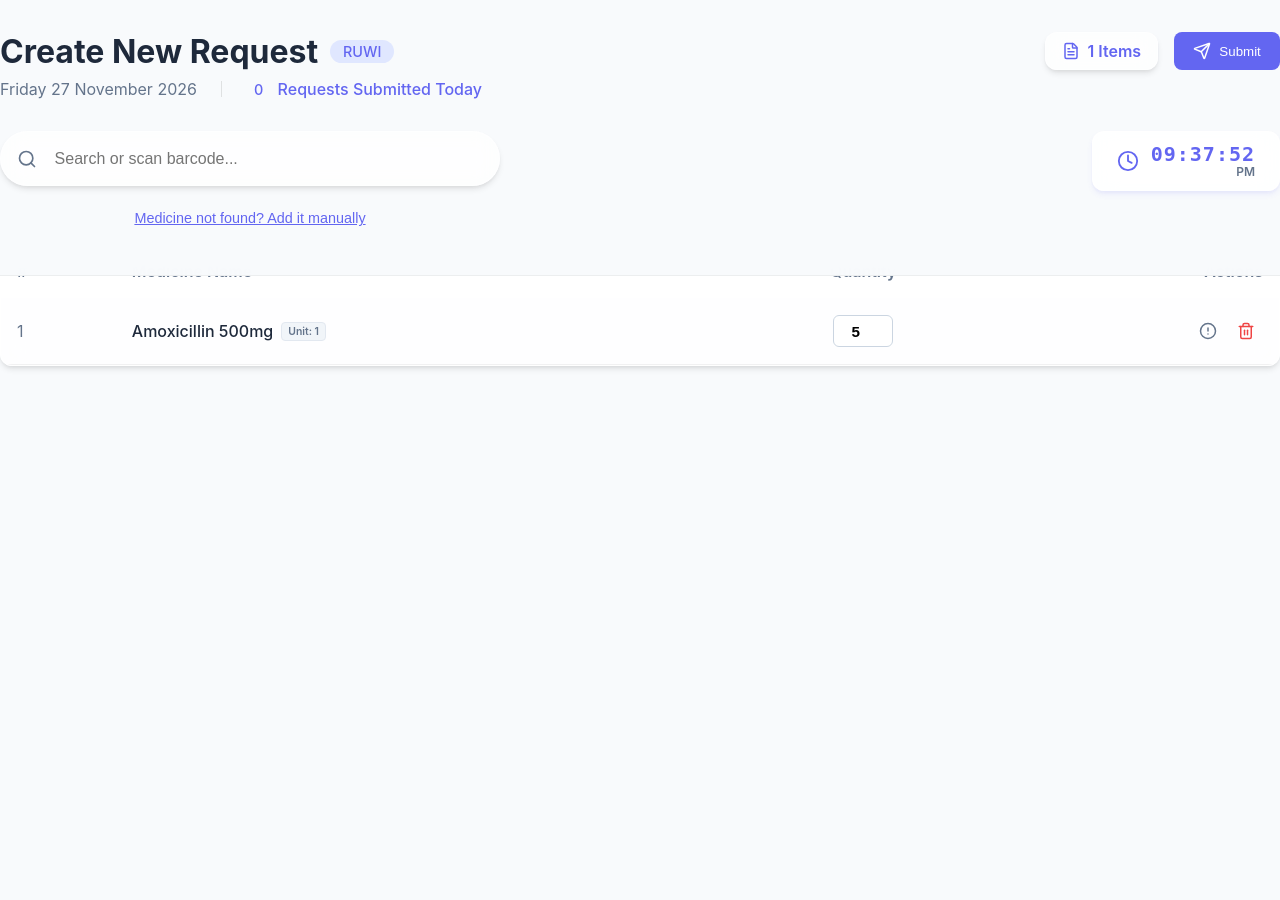
PharmacistNewRequest verification token flow › preserves draft cart and reopens PIN modal with error message when verification token is rejected (409/401)
The width and height of the screenshot is (1280, 900).
Click the button "Submit" at (1227, 51), box [1174,32,1279,70]
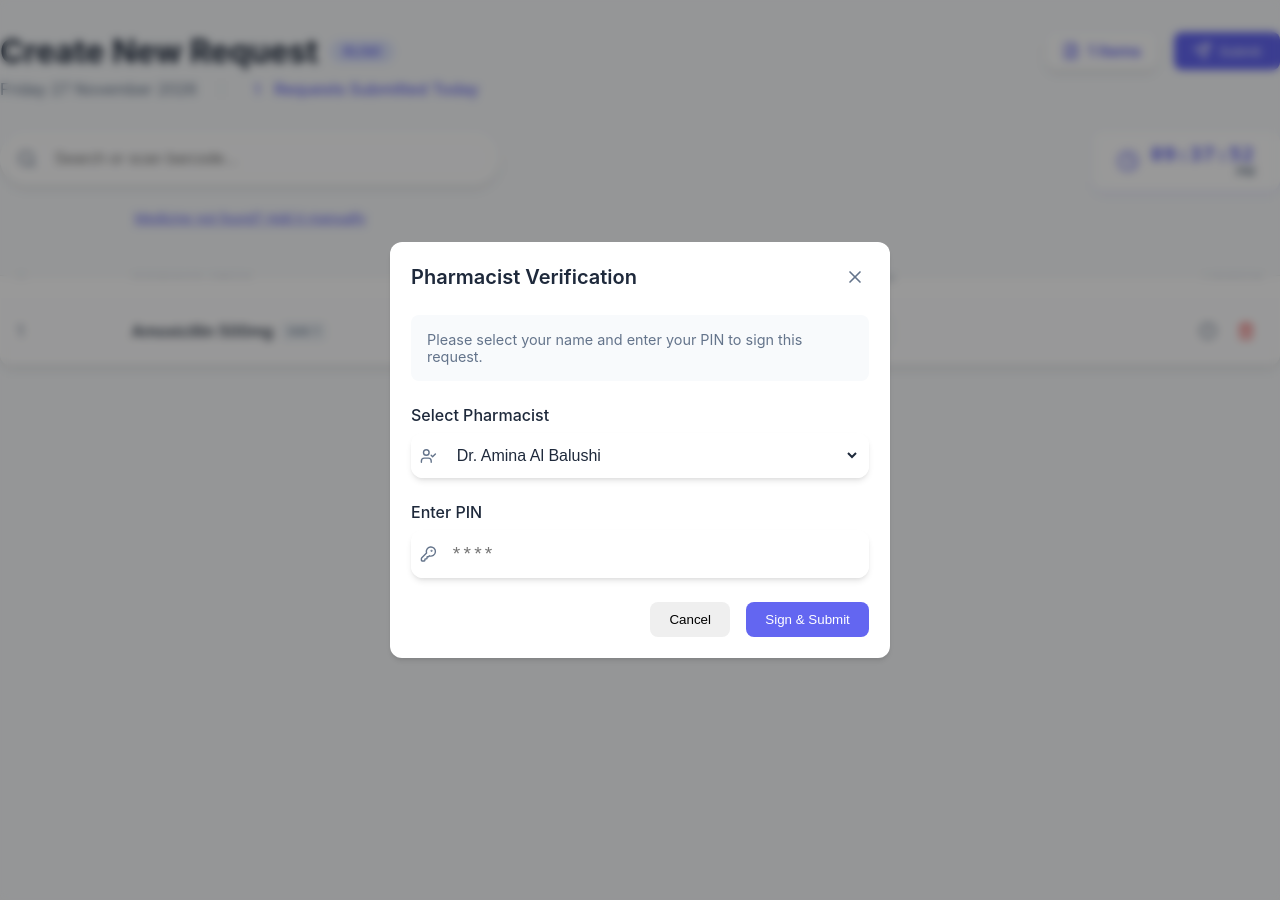
Select "Dr. Amina Al Balushi" in the dropdown at (654, 456), box [449,442,860,469]
Type "1234" into the password field with placeholder "****" at (654, 554), box [449,539,860,569]
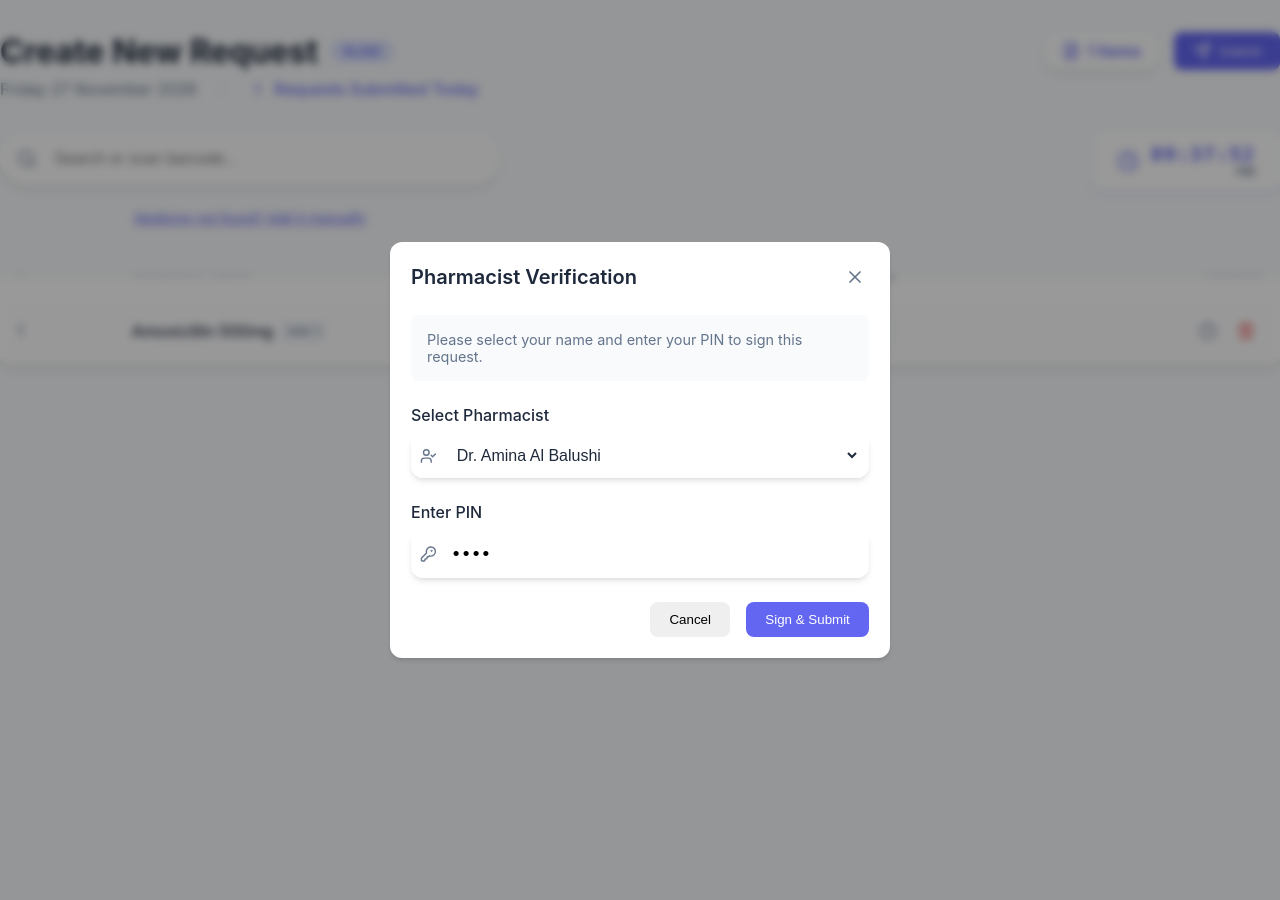
Click the button "Sign & Submit" at (808, 620), box [746,602,869,637]
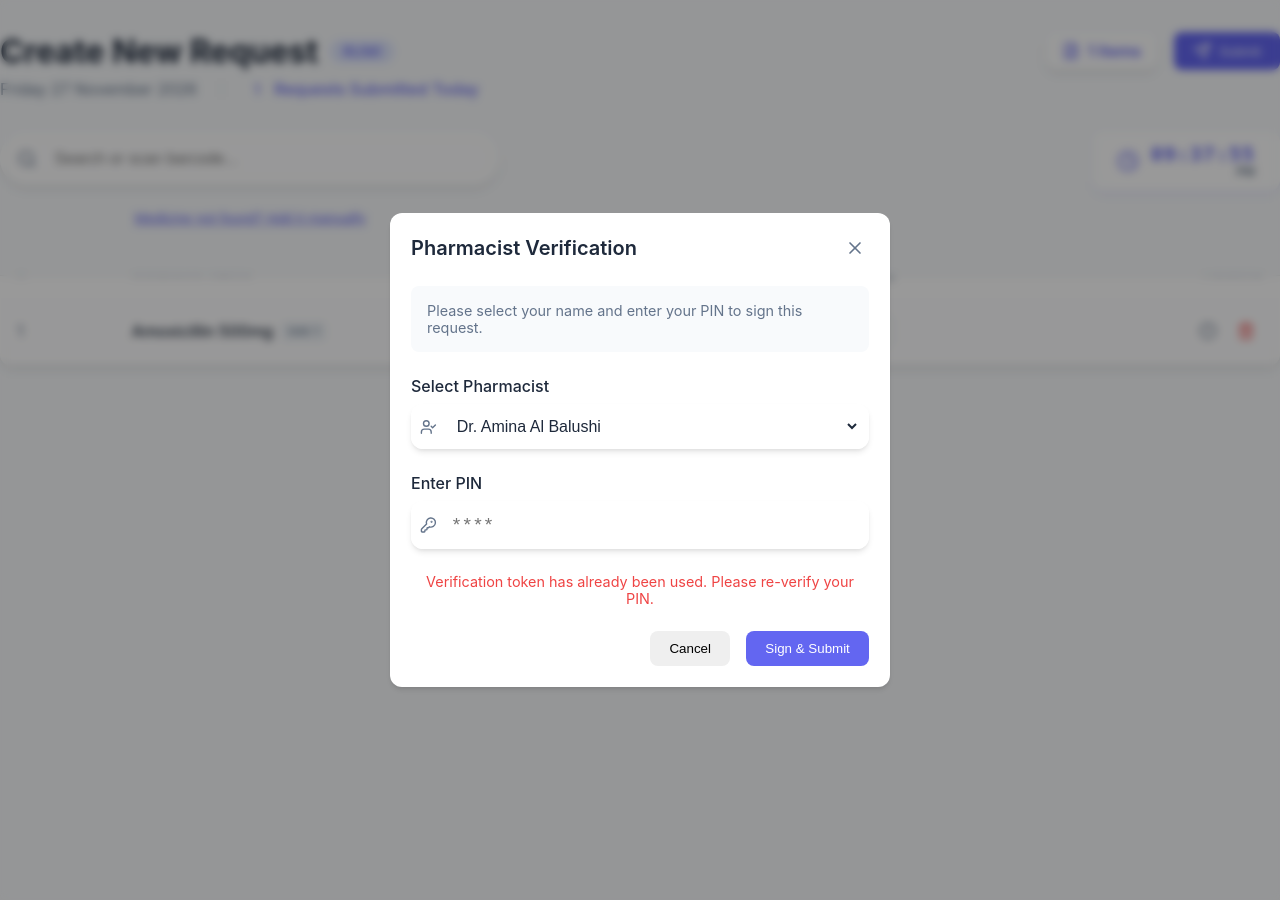
Check: the text "Amoxicillin 500mg" is shown, box [132,321,273,341]
Check: the text "Verification token has already been used. Please re-verify your PIN." is shown, box [411,573,869,607]
